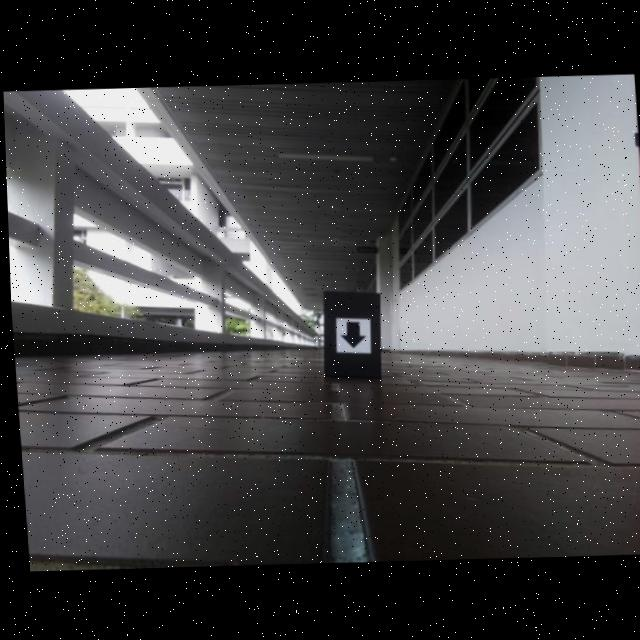DOWN: (336, 320, 364, 348)
